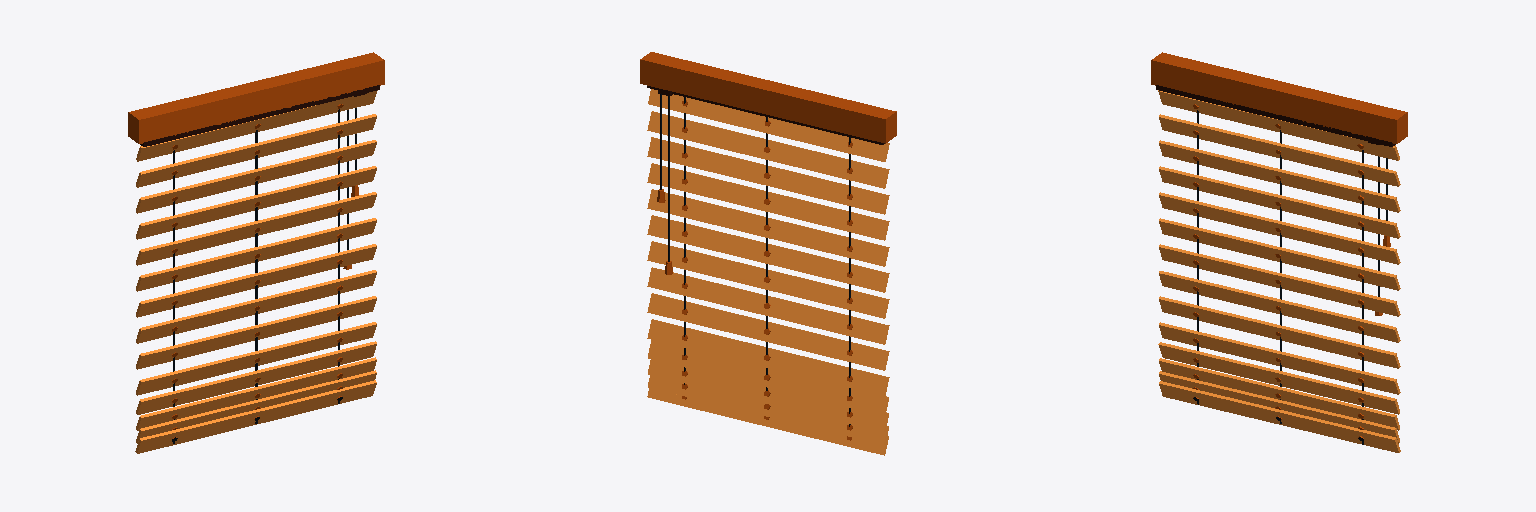
3 views of the same model, side by side, from view 1: azimuth 30°, elevation 25°; view 2: azimuth 150°, elevation 25°; view 3: azimuth 330°, elevation 25° (orthographic).
Visible parts, largest first — view 1: group[number redacted], group[number redacted], group[number redacted], group[number redacted], group[number redacted], group[number redacted], group[number redacted], group[number redacted], group[number redacted], group[number redacted], group[number redacted], group[number redacted] (+4 smaller); view 2: group[number redacted], group[number redacted], group[number redacted], group[number redacted], group[number redacted], group[number redacted], group[number redacted], group[number redacted], group[number redacted], group[number redacted], group[number redacted], group[number redacted] (+3 smaller); view 3: group[number redacted], group[number redacted], group[number redacted], group[number redacted], group[number redacted], group[number redacted], group[number redacted], group[number redacted], group[number redacted], group[number redacted], group[number redacted], group[number redacted] (+4 smaller).
Boxes of the visible parts, <box> form: group[number redacted]: <box>128,52,384,143</box>; group[number redacted]: <box>136,114,376,187</box>; group[number redacted]: <box>136,270,376,343</box>; group[number redacted]: <box>136,341,376,414</box>; group[number redacted]: <box>136,140,376,213</box>; group[number redacted]: <box>136,166,376,239</box>; group[number redacted]: <box>136,192,376,265</box>; group[number redacted]: <box>136,218,376,291</box>; group[number redacted]: <box>136,244,376,317</box>; group[number redacted]: <box>136,296,376,369</box>; group[number redacted]: <box>136,322,376,395</box>; group[number redacted]: <box>135,380,376,453</box>; group[number redacted]: <box>640,52,896,143</box>; group[number redacted]: <box>647,293,889,370</box>; group[number redacted]: <box>647,319,889,396</box>; group[number redacted]: <box>647,267,889,344</box>; group[number redacted]: <box>647,215,889,292</box>; group[number redacted]: <box>647,241,889,318</box>; group[number redacted]: <box>647,111,889,188</box>; group[number redacted]: <box>647,137,889,214</box>; group[number redacted]: <box>647,163,889,240</box>; group[number redacted]: <box>647,189,889,266</box>; group[number redacted]: <box>648,340,888,415</box>; group[number redacted]: <box>648,359,888,431</box>; group[number redacted]: <box>1151,52,1407,143</box>; group[number redacted]: <box>1159,192,1400,264</box>; group[number redacted]: <box>1159,218,1400,290</box>; group[number redacted]: <box>1159,244,1400,316</box>; group[number redacted]: <box>1159,296,1400,368</box>; group[number redacted]: <box>1158,342,1399,414</box>; group[number redacted]: <box>1159,166,1400,238</box>; group[number redacted]: <box>1159,140,1400,212</box>; group[number redacted]: <box>1159,322,1400,394</box>; group[number redacted]: <box>1159,271,1400,342</box>; group[number redacted]: <box>1159,114,1400,186</box>; group[number redacted]: <box>1159,381,1400,452</box>.
Size of the model in its own units: 1.58 by 2.09 by 0.1306.